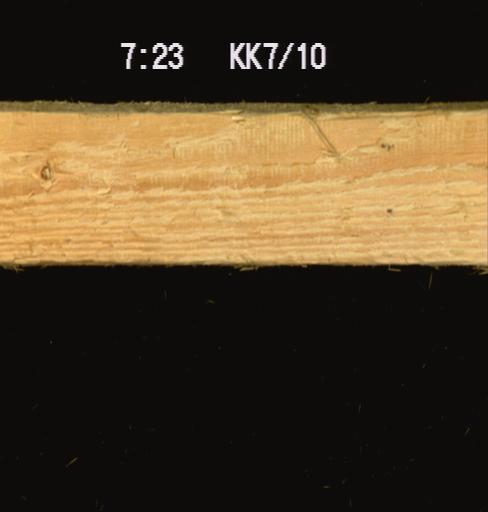small_knot: (34, 160, 53, 182)
